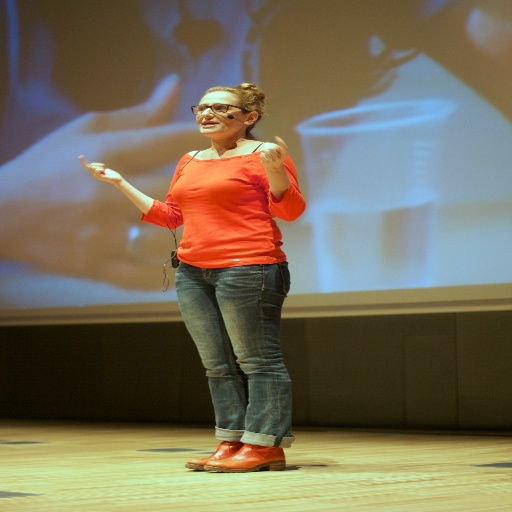hand: (0, 71, 216, 291), (74, 154, 148, 191), (256, 135, 288, 170)
